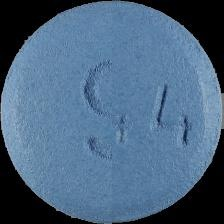50090-0914: (0, 0, 224, 224)
